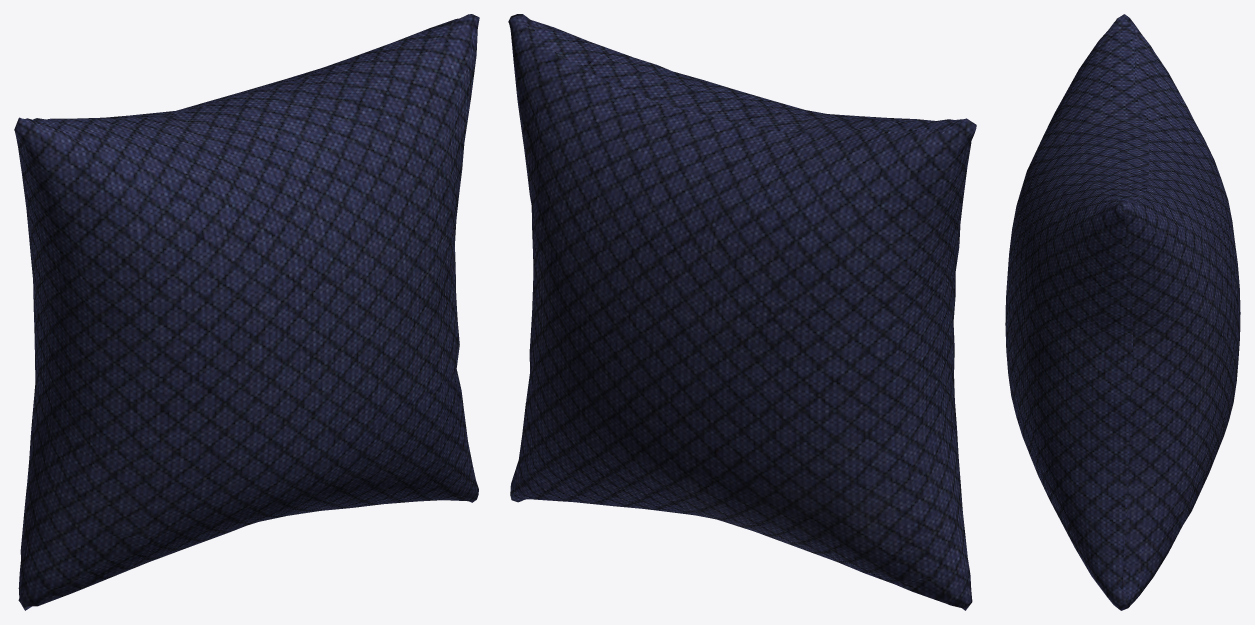
Rendered from Prop_Pillow.fbx.
3 views of the same model, side by side, from view 1: azimuth 30°, elevation 25°; view 2: azimuth 150°, elevation 25°; view 3: azimuth 270°, elevation 25° (orthographic). The views are drawn at different scales.
Parts seen in each view (by area): view 1: Prop_Pillow; view 2: Prop_Pillow; view 3: Prop_Pillow.
Boxes of the visible parts, bbox=[...] form: Prop_Pillow: bbox=[14, 14, 479, 610]; Prop_Pillow: bbox=[508, 14, 976, 610]; Prop_Pillow: bbox=[1005, 14, 1240, 610].
Bounding box in the file's own units: 21.14 × 21.45 × 11.06.
